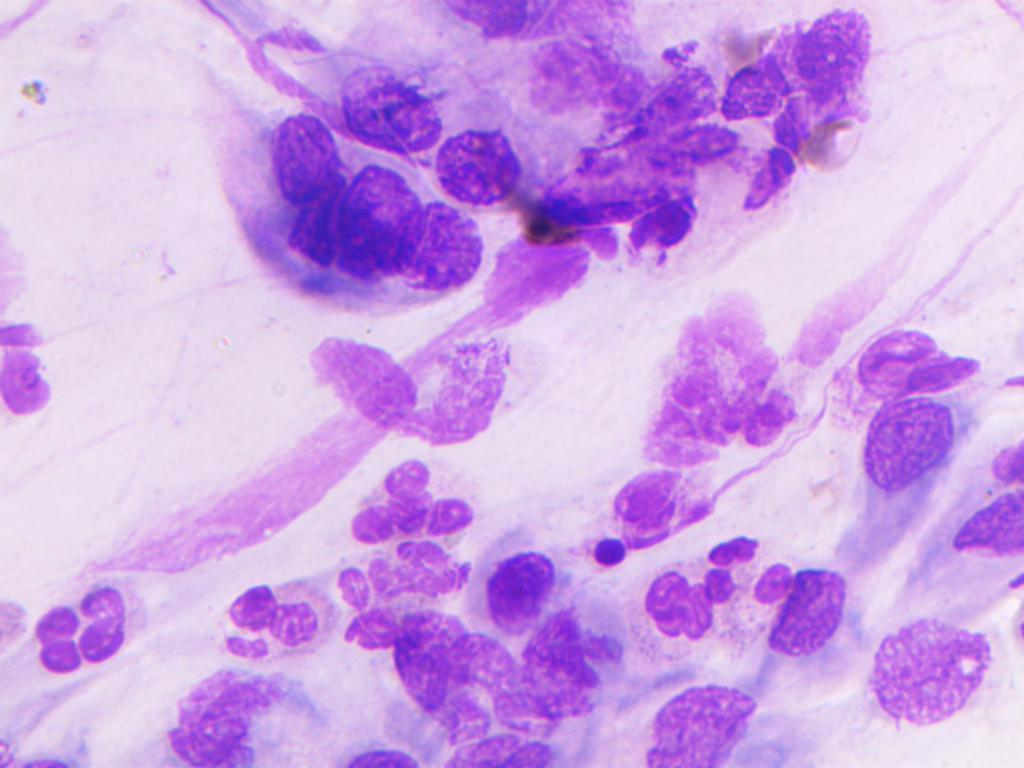artifact: (531, 16, 737, 178), (654, 292, 792, 466), (531, 186, 711, 266), (397, 614, 523, 721), (513, 614, 617, 720), (0, 307, 77, 421), (411, 719, 563, 768)
ciliated: (299, 321, 533, 458)
epithelial: (868, 606, 990, 726), (157, 669, 294, 768), (318, 164, 426, 278), (583, 459, 717, 547), (242, 101, 346, 212), (848, 393, 956, 498), (840, 315, 976, 395), (389, 195, 489, 300), (645, 675, 757, 768), (334, 56, 440, 154), (707, 40, 804, 140), (767, 555, 857, 660), (783, 4, 877, 101), (437, 118, 527, 202), (478, 545, 557, 631), (947, 490, 1024, 578)
erythrocyte: (793, 113, 894, 171)
neutrophil: (325, 531, 480, 660), (643, 534, 790, 654), (342, 456, 483, 548), (213, 575, 337, 662), (85, 575, 145, 672), (22, 584, 78, 676)
